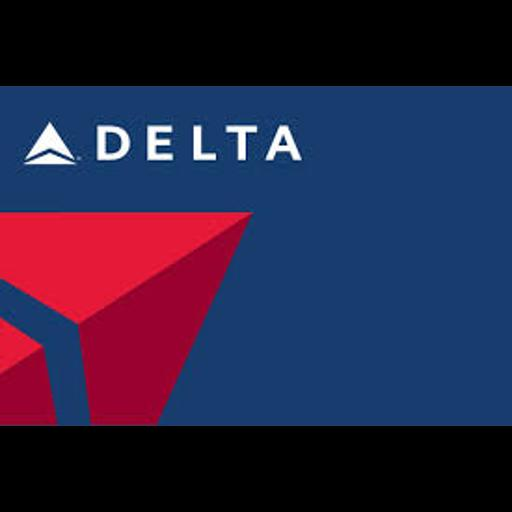Delta Air Lines: (0, 86, 512, 426)
